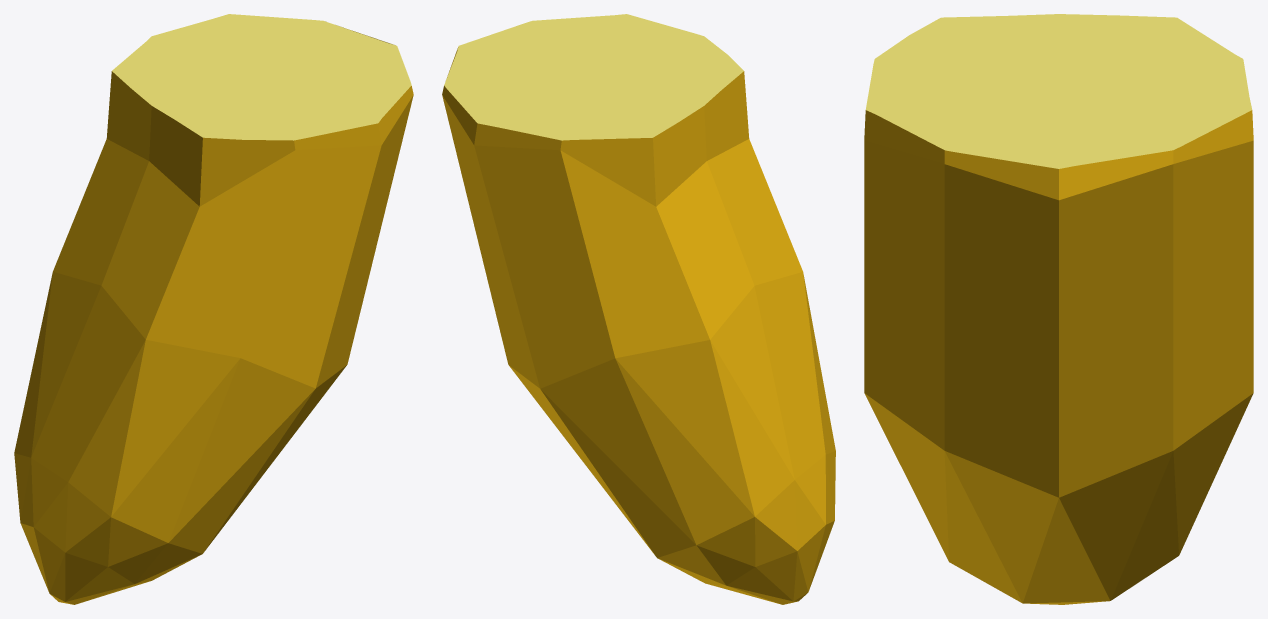
The model's file is BananaHalf2.fbx.
3 views of the same model, side by side, from view 1: azimuth 30°, elevation 25°; view 2: azimuth 150°, elevation 25°; view 3: azimuth 270°, elevation 25° (orthographic). The views are drawn at different scales.
Visible parts, largest first — view 1: BananaHalf2; view 2: BananaHalf2; view 3: BananaHalf2.
Boxes of the visible parts, x1,y1,x2,y2 form: BananaHalf2: (14,14,413,604); BananaHalf2: (442,14,835,604); BananaHalf2: (864,14,1253,604).
Size of the model in its own units: 241 by 297 by 170.
